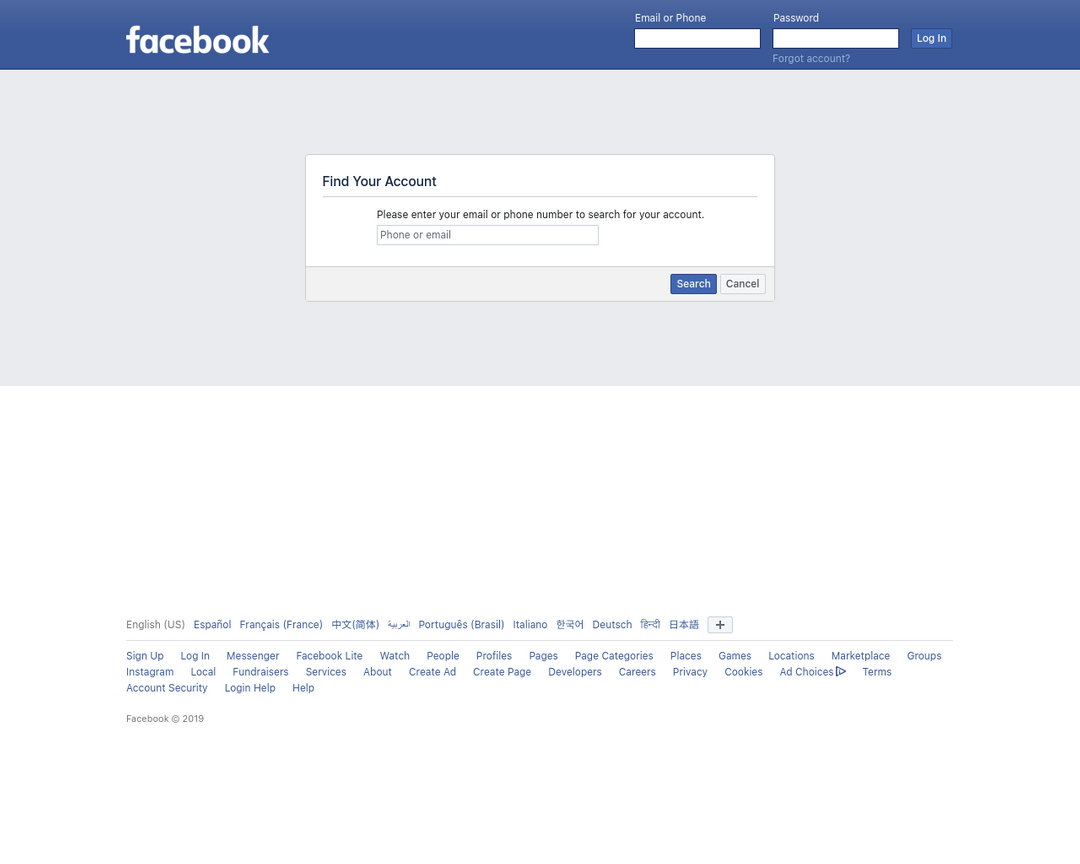Facebook: (123, 20, 272, 59)
